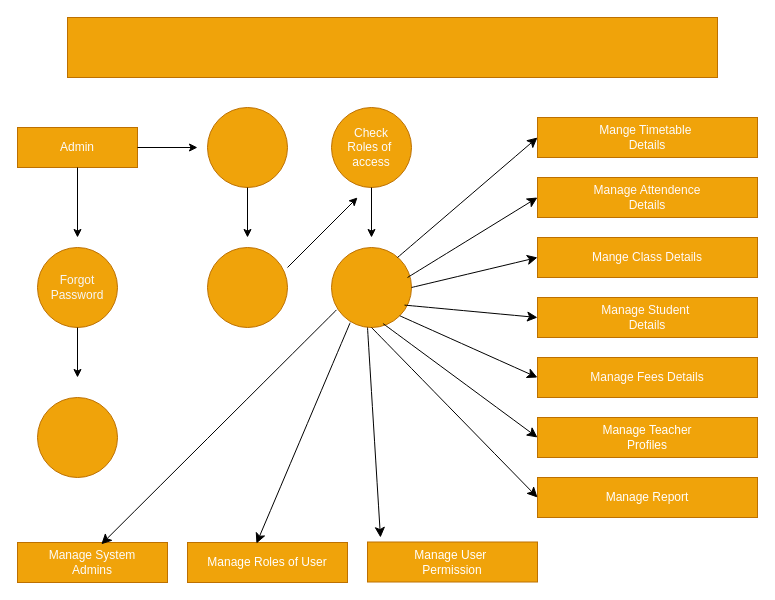
The diagram is 775 pixels wide and 600 high, and some of its shapes have lost their labels. Here are the shapes that lost their labels. From the top down, the centre of each, then its label:
the point at 392,47: Students Information System
the point at 247,147: Login to System
the point at 247,287: Check Credentials
the point at 371,287: Manage Modules
the point at 77,437: Send Email to User
